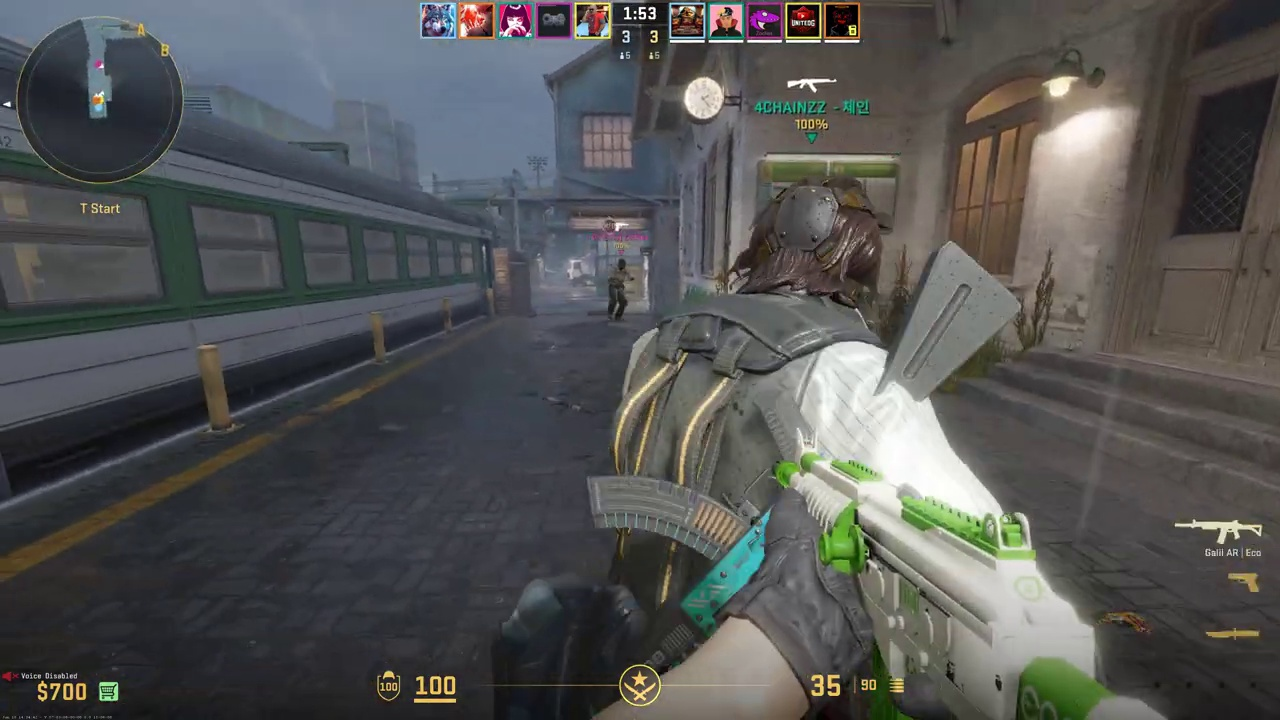Terrorist: (607, 173, 998, 649), (608, 258, 628, 321), (553, 669, 557, 670)
